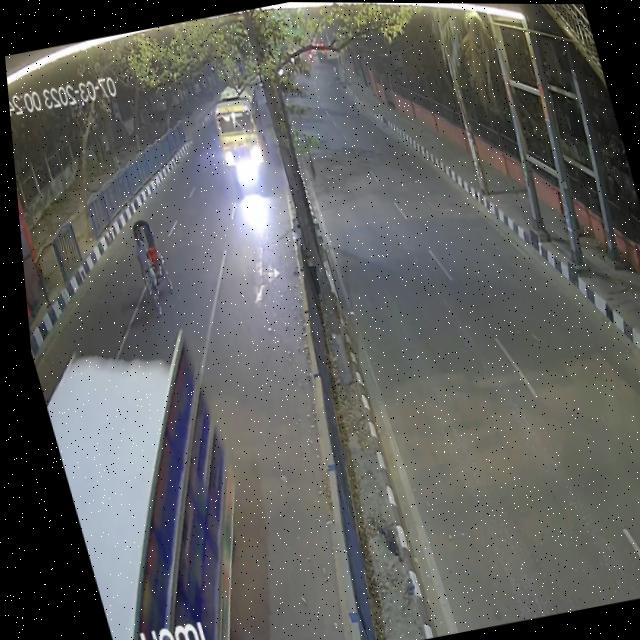rikshaw: (118, 207, 175, 311)
